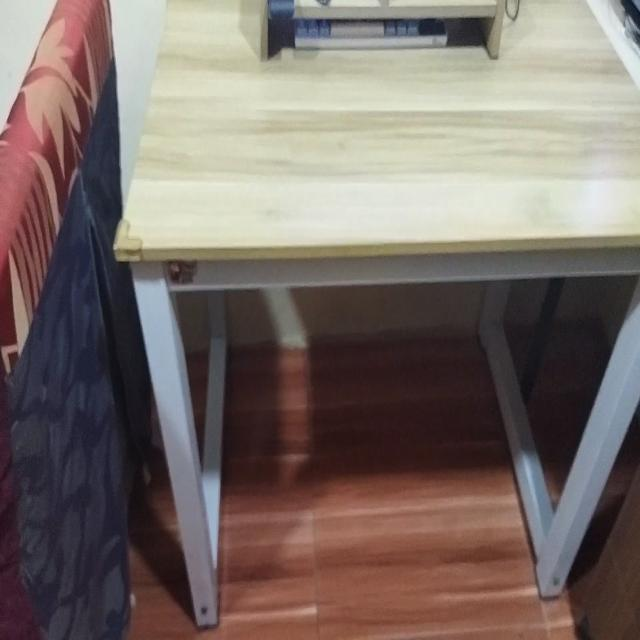table: (107, 0, 640, 630)
